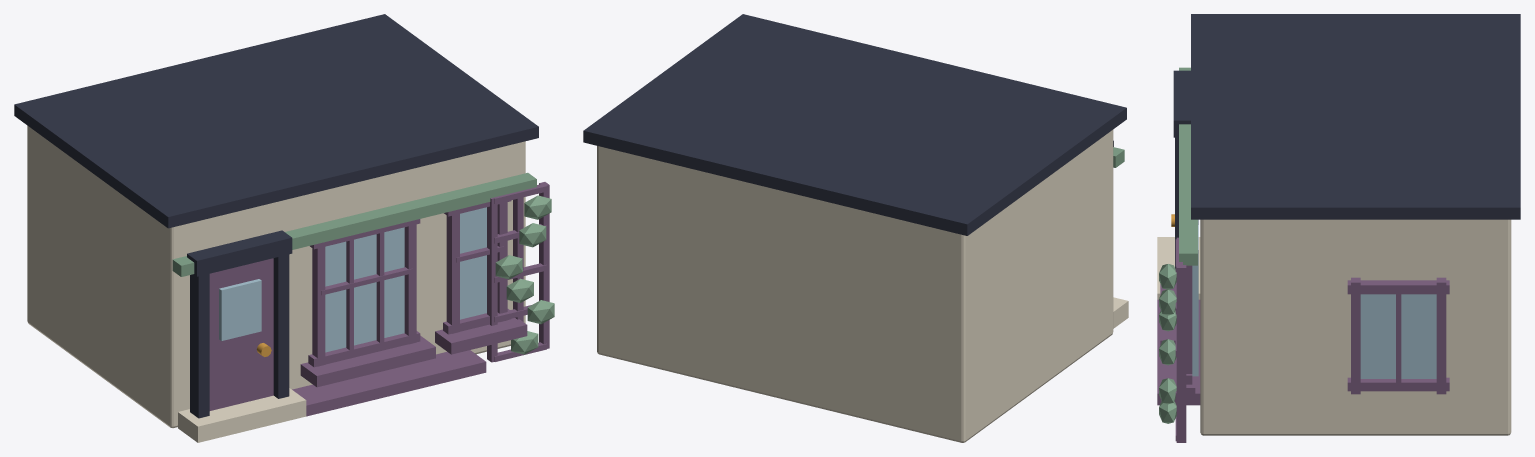
Rendered from floor_gardens_2.glb.
The picture shows the model from 3 angles, left to right: view 1: azimuth 30°, elevation 25°; view 2: azimuth 150°, elevation 25°; view 3: azimuth 270°, elevation 25°; orthographic projection. The views are drawn at different scales.
Parts seen in each view (by area): view 1: floor_gardens_2 ink, floor_gardens_2 mist, floor_gardens_2 patina, floor_gardens_2 glass, floor_gardens_2 pine; view 2: floor_gardens_2 mist, floor_gardens_2 ink; view 3: floor_gardens_2 ink, floor_gardens_2 mist, floor_gardens_2 patina, floor_gardens_2 glass, floor_gardens_2 pine.
Boxes of the visible parts, x1,y1,x2,y2 form: floor_gardens_2 ink: [14, 14, 538, 418]; floor_gardens_2 mist: [27, 125, 525, 442]; floor_gardens_2 patina: [209, 182, 549, 416]; floor_gardens_2 glass: [219, 207, 486, 352]; floor_gardens_2 pine: [172, 172, 554, 354]; floor_gardens_2 mist: [597, 130, 1128, 442]; floor_gardens_2 ink: [583, 14, 1126, 235]; floor_gardens_2 ink: [1173, 14, 1520, 268]; floor_gardens_2 mist: [1157, 219, 1511, 435]; floor_gardens_2 patina: [1157, 237, 1449, 442]; floor_gardens_2 glass: [1192, 219, 1436, 378]; floor_gardens_2 pine: [1159, 67, 1197, 423].
Size of the model in its own units: 0.8745 by 0.48 by 0.6775.
